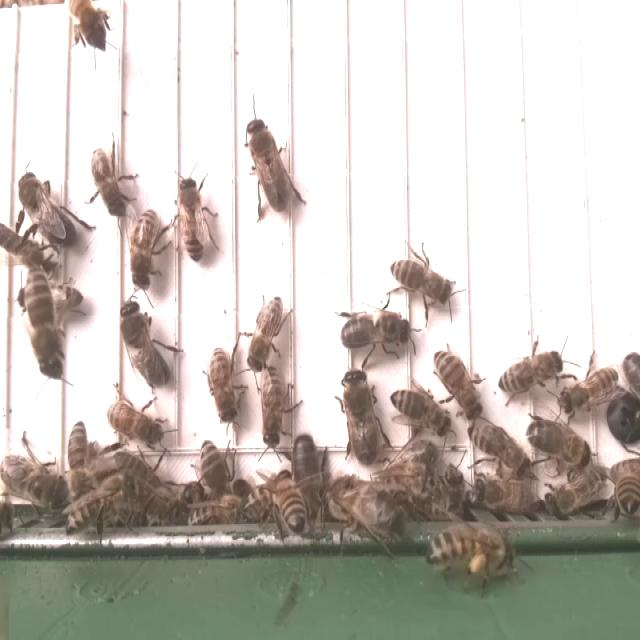Drone: (14, 169, 81, 255), (244, 116, 295, 218), (118, 298, 172, 390), (524, 411, 596, 479), (338, 366, 383, 466), (0, 452, 73, 513), (339, 306, 414, 356), (290, 426, 326, 513)
Worker: (467, 410, 537, 485), (168, 164, 219, 265), (78, 128, 132, 221), (118, 201, 164, 307), (431, 342, 486, 423), (24, 267, 63, 379), (497, 346, 568, 401), (388, 256, 460, 310), (556, 364, 623, 420), (266, 470, 316, 543), (388, 386, 455, 440), (245, 288, 285, 377), (104, 398, 167, 453), (196, 435, 232, 520), (205, 344, 241, 428), (256, 362, 286, 453)
